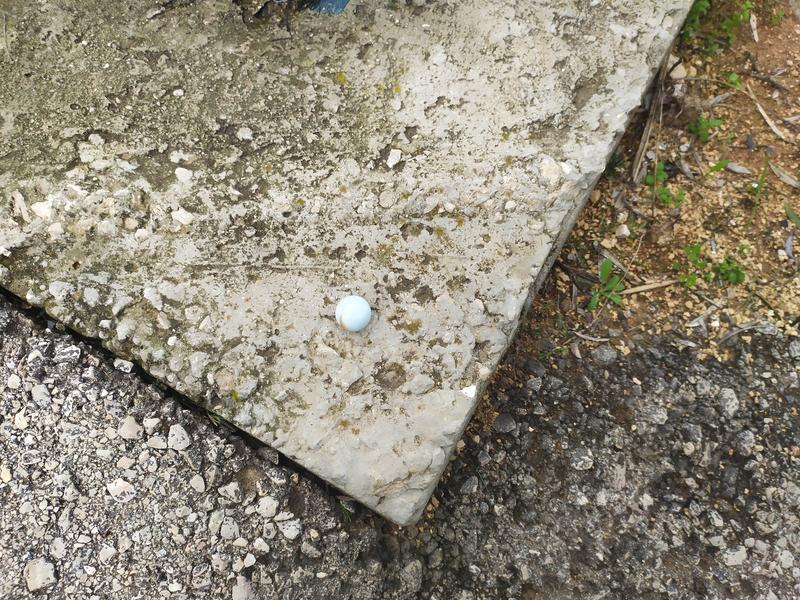Warning: (334, 294, 373, 333)
